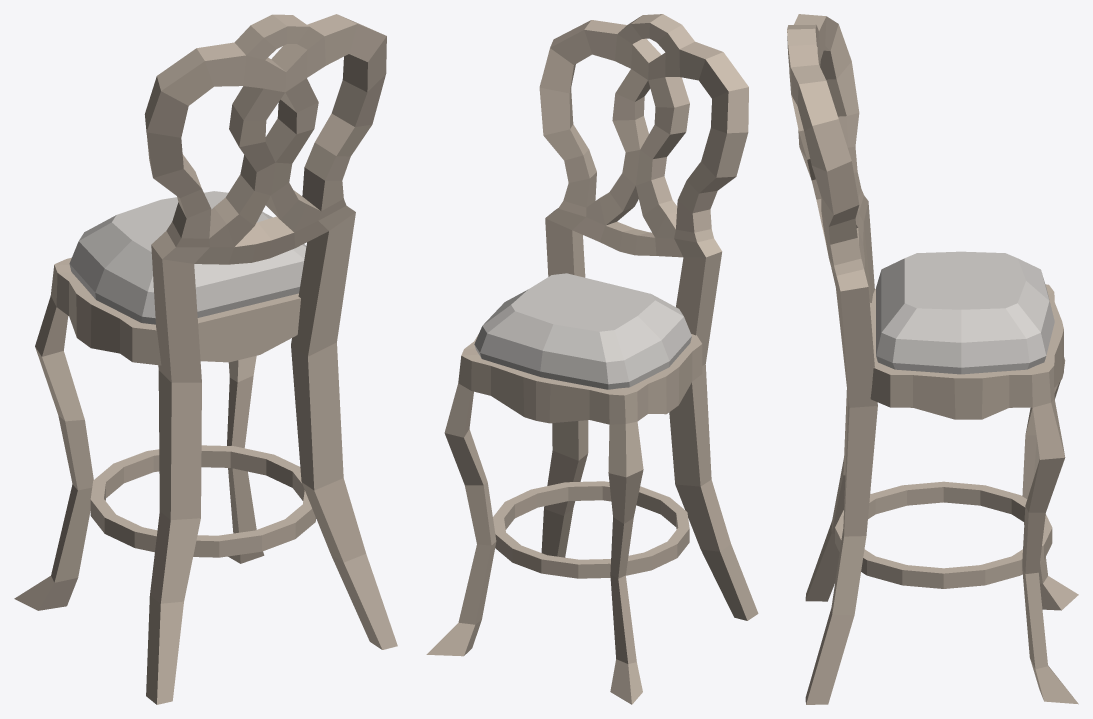
Rendered from chair.gltf.
3 renders of one model, left to right at view 1: azimuth 30°, elevation 25°; view 2: azimuth 150°, elevation 25°; view 3: azimuth 270°, elevation 25°, orthographic. The views are drawn at different scales.
Visible parts, largest first — view 1: chair; view 2: chair; view 3: chair.
Part boxes in pixels (left/top/right/bottom): chair: left=14, top=14, right=397, bottom=704; chair: left=426, top=14, right=758, bottom=704; chair: left=787, top=14, right=1078, bottom=704.
Size of the model in its own units: 1.06 by 2.75 by 1.17.
